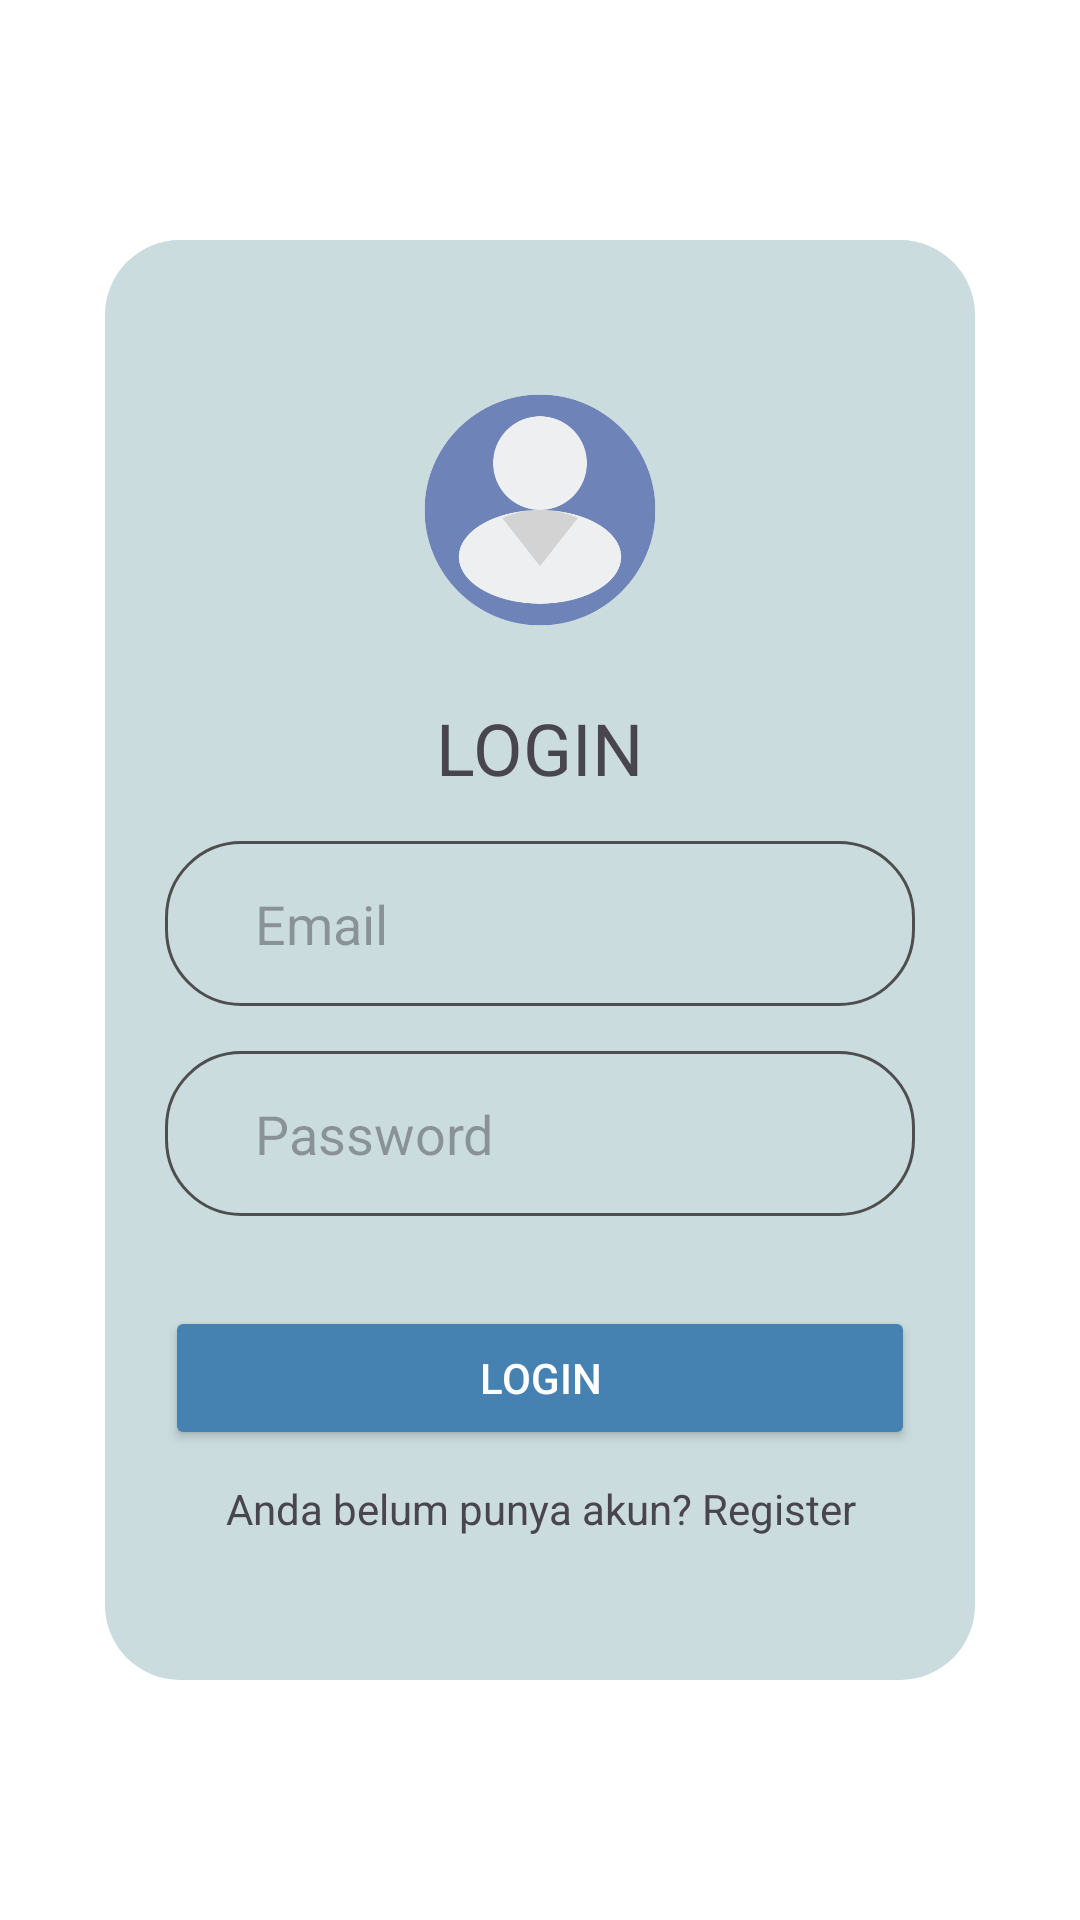

Screen size 1080*1920. Icon name, then its box in pixels as (x1, y1, x2, y2):
user: (425, 395, 655, 625)
